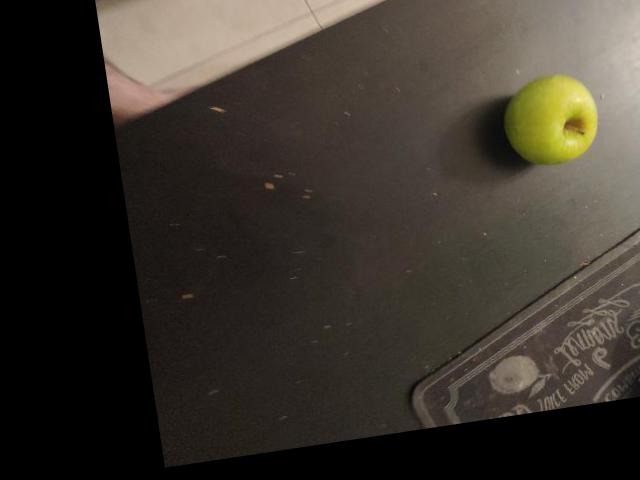apple: (522, 125, 628, 260)
